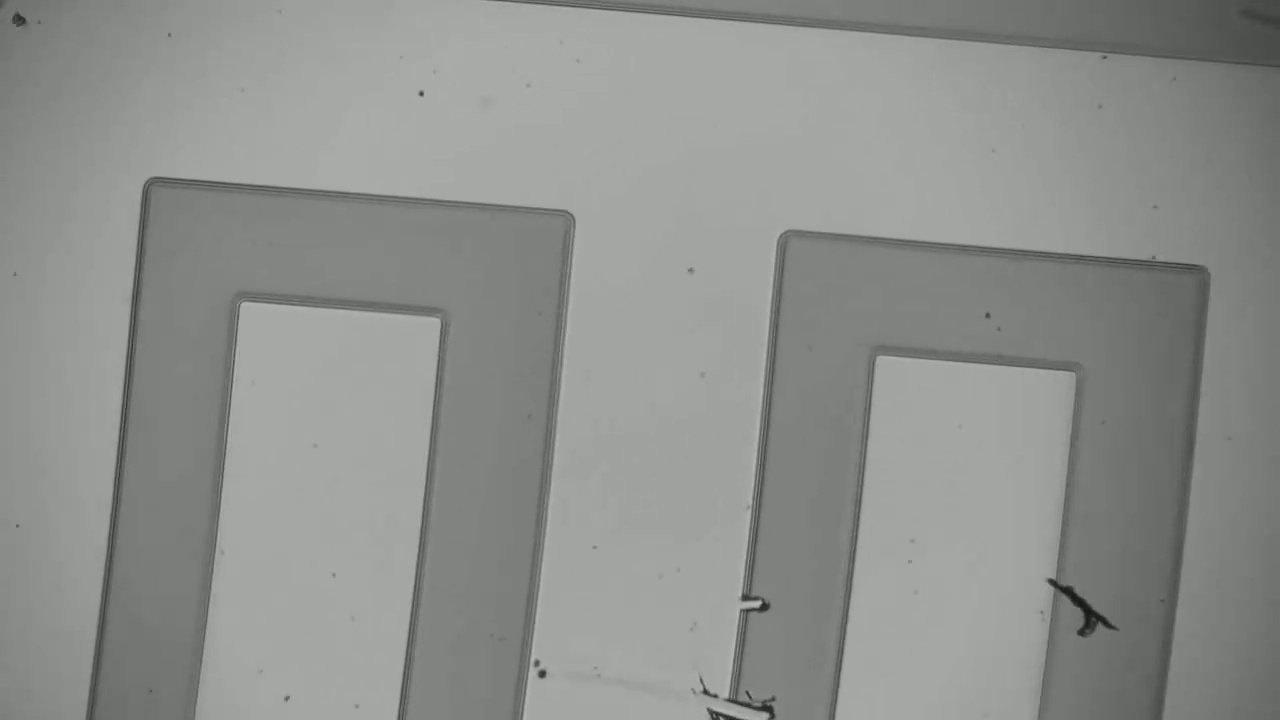Short_circuit: (680, 684, 859, 720)
